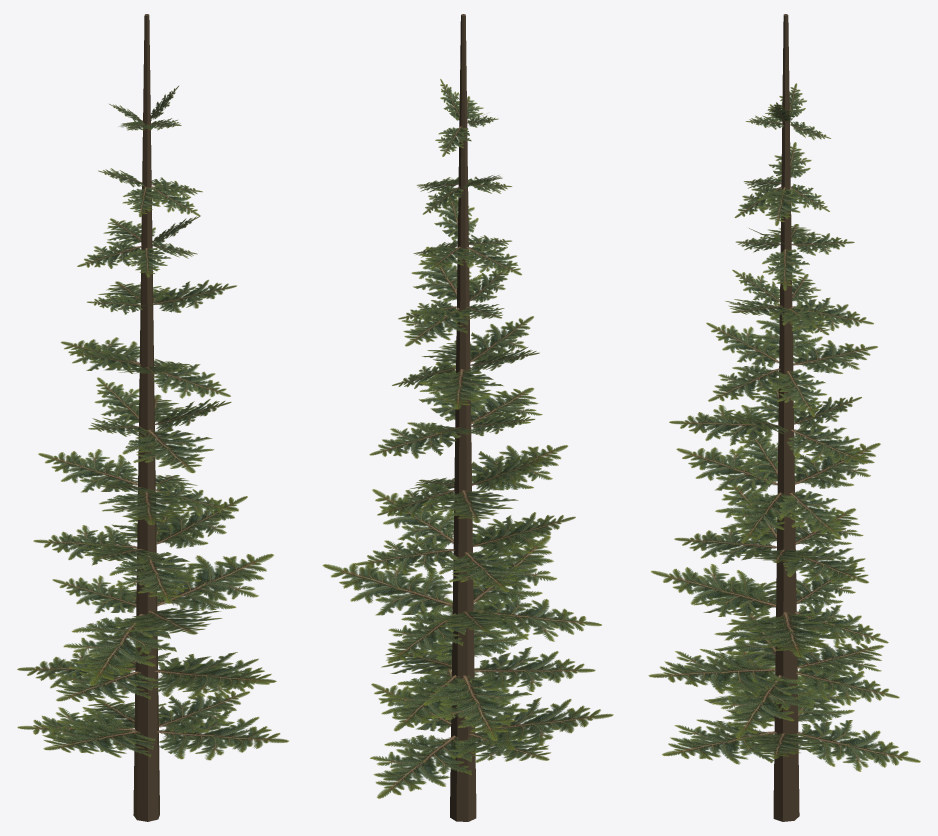
The model's file is fir-2.glb.
3 renders of one model, left to right at view 1: azimuth 30°, elevation 25°; view 2: azimuth 150°, elevation 25°; view 3: azimuth 270°, elevation 25°, orthographic.
Visible parts, largest first — view 1: Evergreen boughs, Tapered evergreen trunk; view 2: Evergreen boughs, Tapered evergreen trunk; view 3: Evergreen boughs, Tapered evergreen trunk.
Boxes of the visible parts, x1,y1,x2,y2 form: Evergreen boughs: (17,86,288,760); Tapered evergreen trunk: (133,14,159,821); Evergreen boughs: (322,79,613,798); Tapered evergreen trunk: (450,14,476,821); Evergreen boughs: (648,83,920,771); Tapered evergreen trunk: (773,14,799,821).
Bounding box in the file's own units: 1.46 × 4.2 × 1.32.
Materials: 2 (1 with a texture image).
